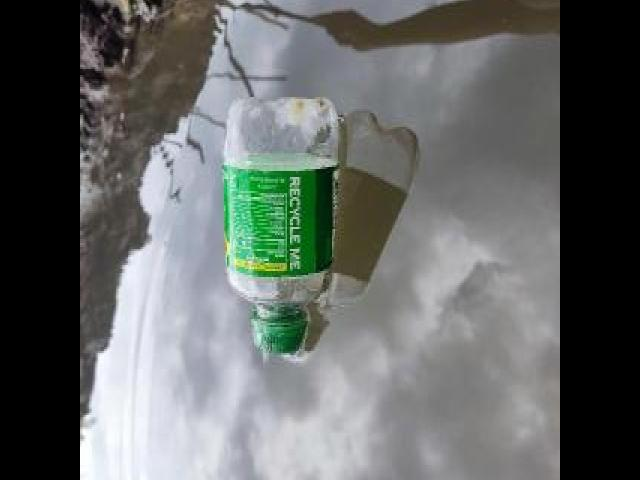Bottle: (216, 82, 342, 364)
